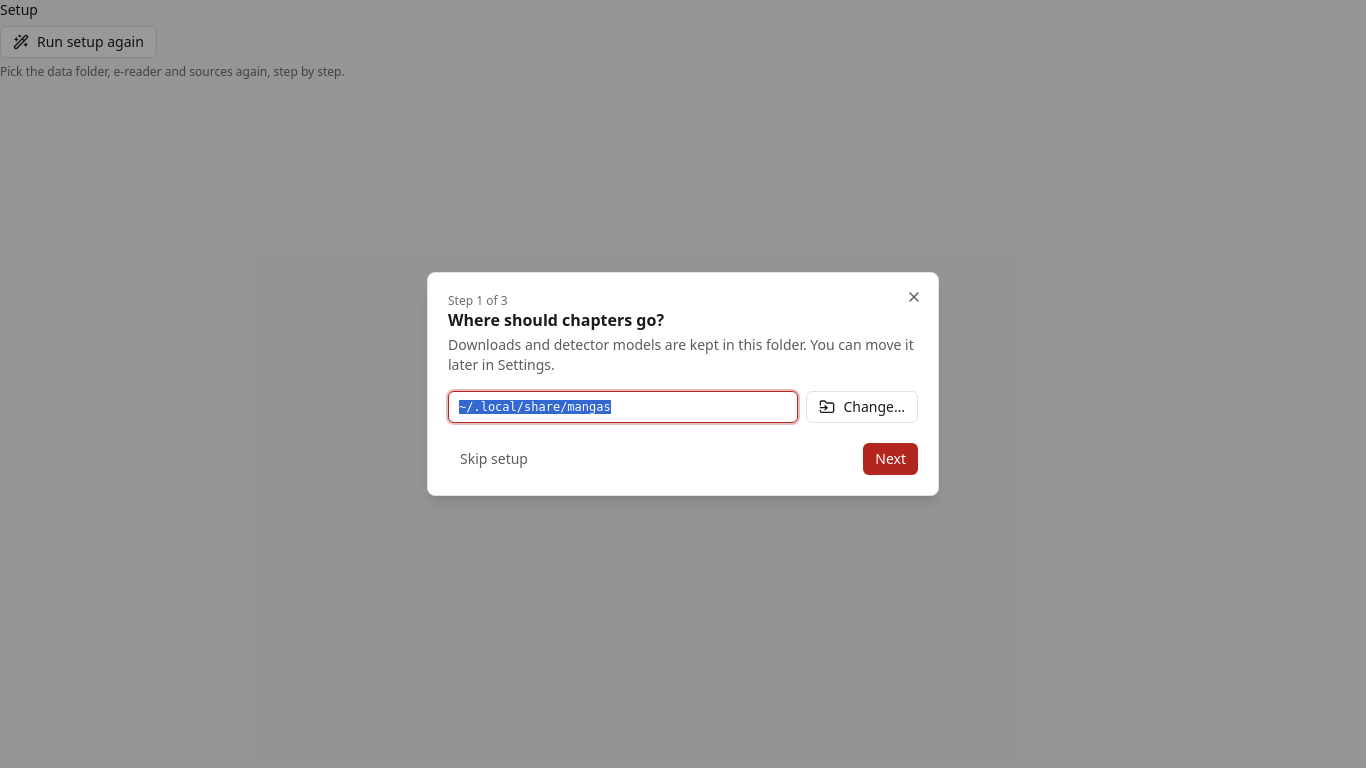
Scenario: first-run setup › shows on a fresh install; skipping stores the flag and lands in the Library
The width and height of the screenshot is (1366, 768).
Expected: the text "Step 1 of 3" is shown, [448, 292, 508, 309]
Click the button "Skip setup". click: [494, 459]
box: [448, 443, 540, 475]
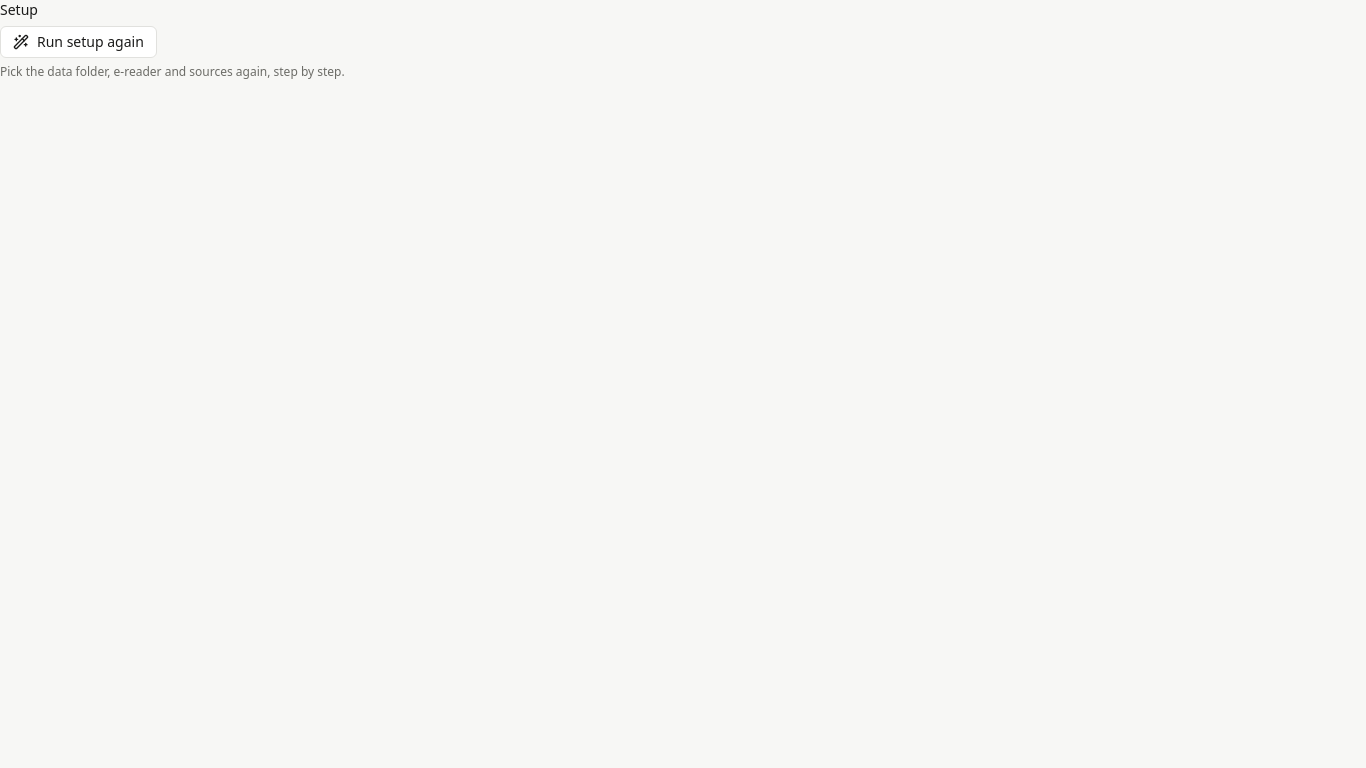
Expected: the dialog is gone
